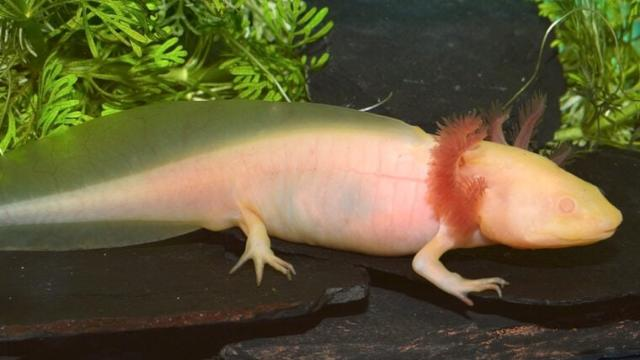Mulut: (576, 200, 634, 254)
Sirip Ekor: (0, 96, 130, 290)
